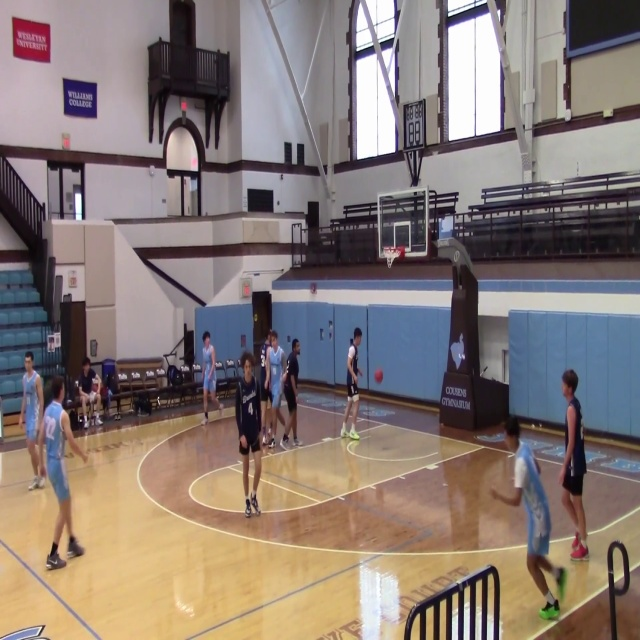Basketball: (374, 369, 383, 383), (240, 435, 247, 450)
